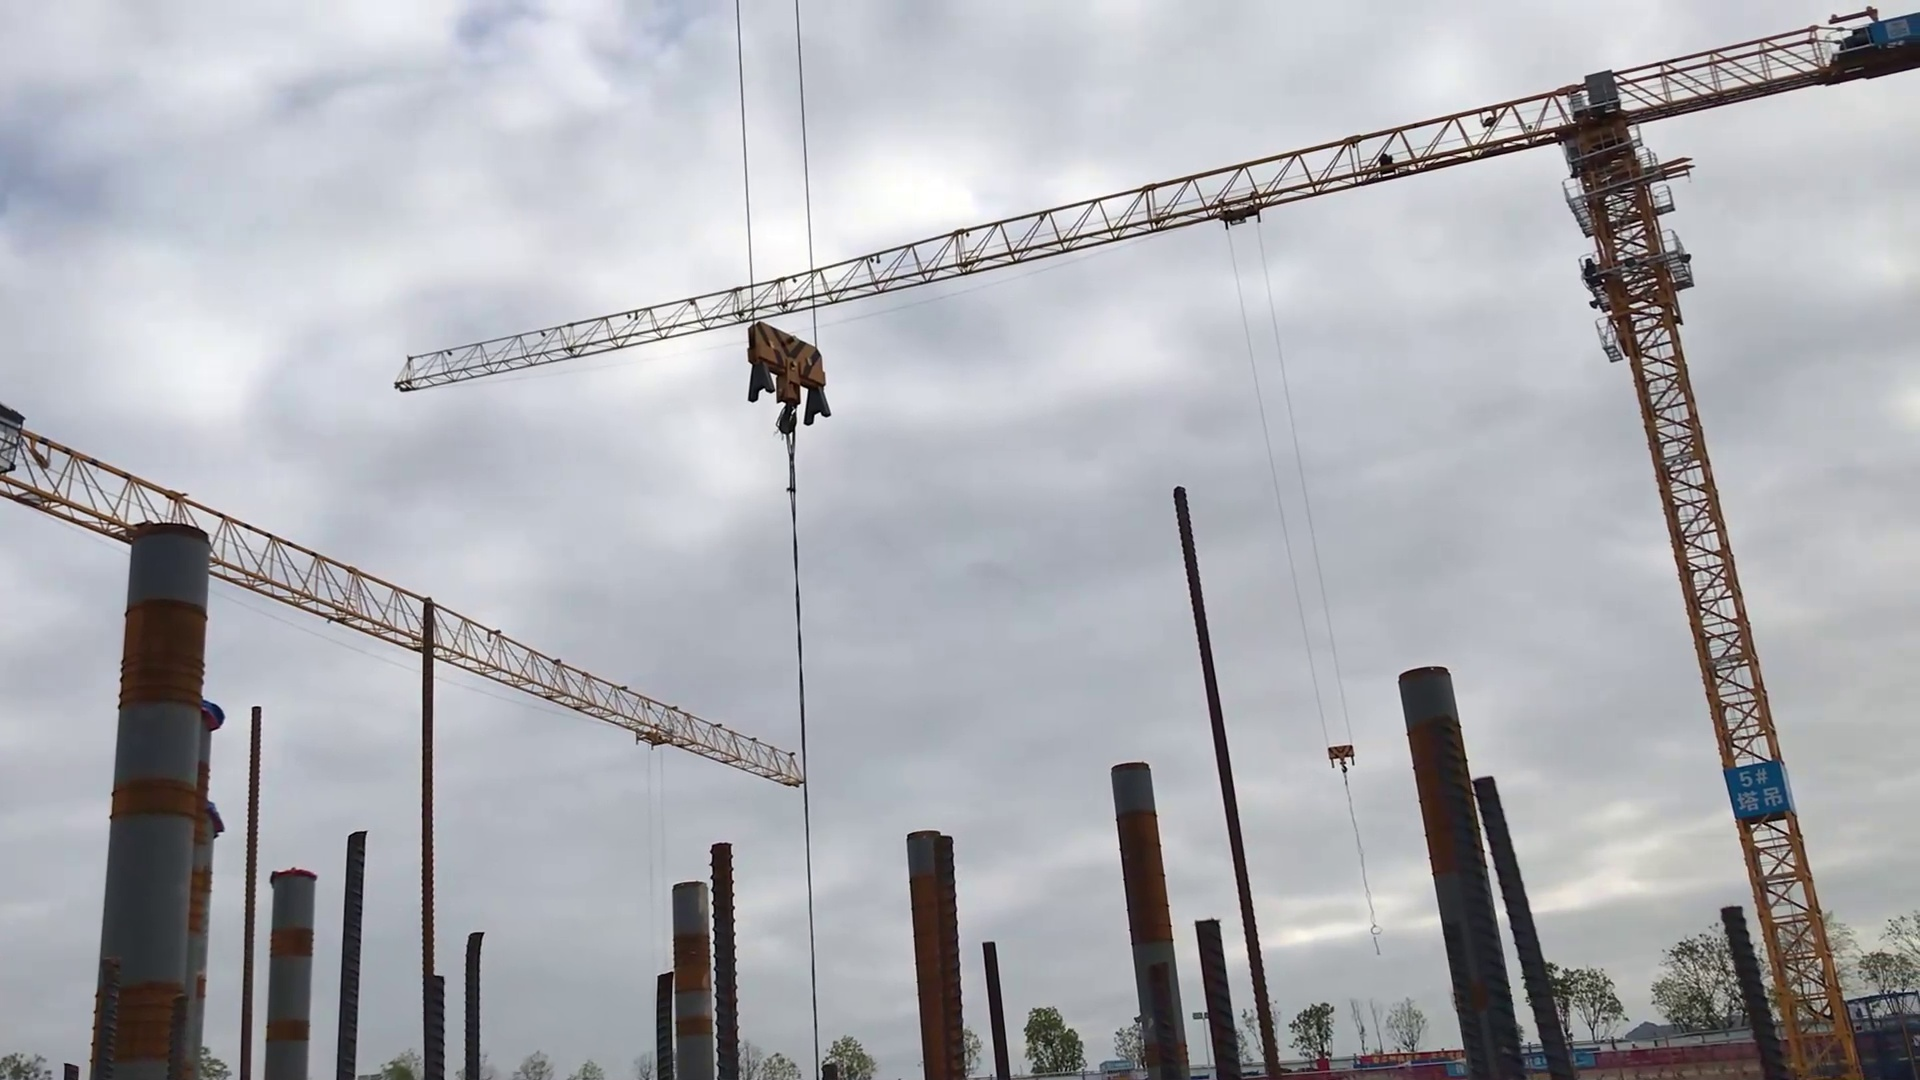hook: (742, 316, 832, 440)
